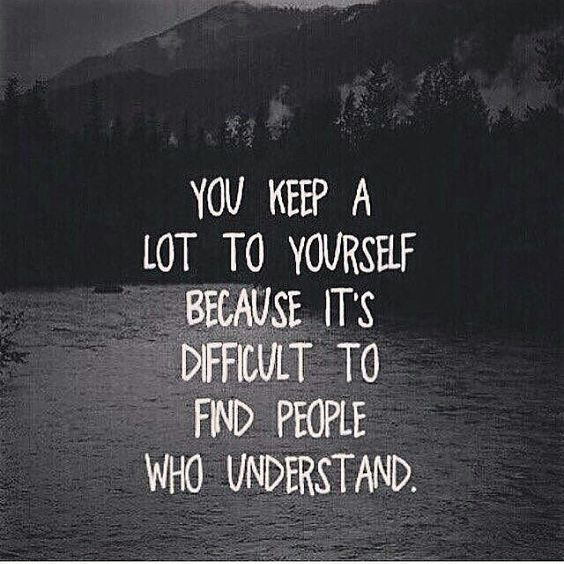latin: (139, 171, 422, 498)
